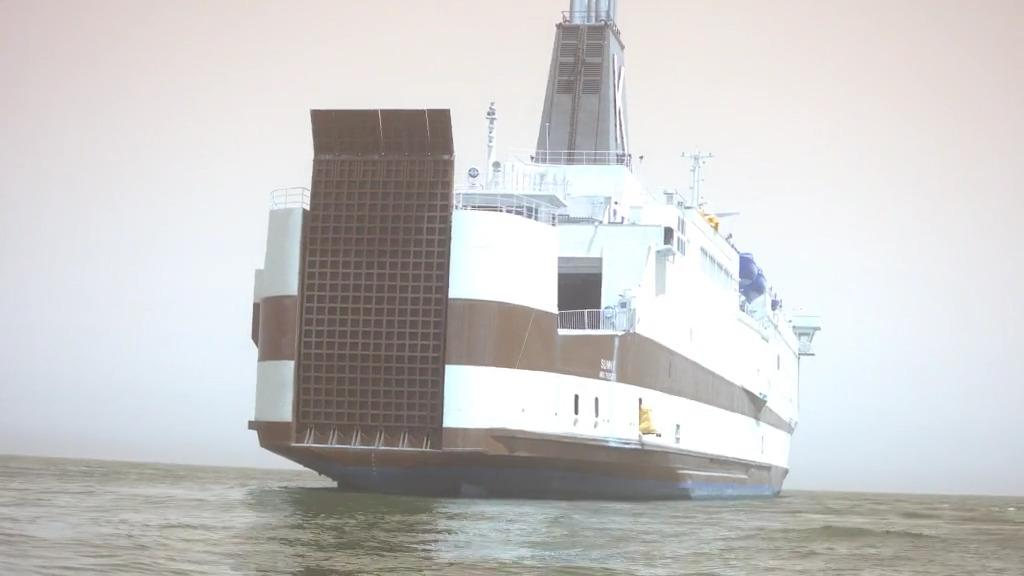PassengerShip: (238, 0, 824, 506)
